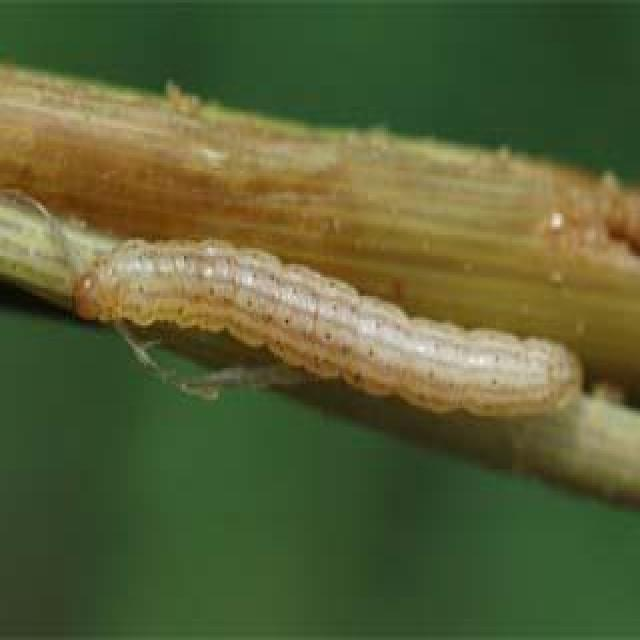yellow-stem-borer-larva: (73, 215, 628, 458)
